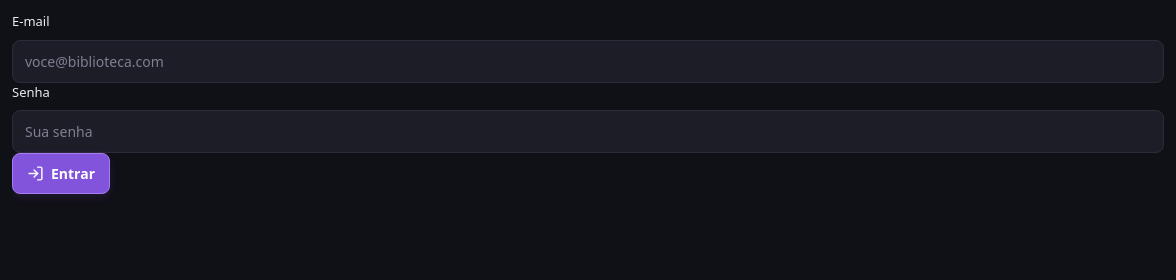
Test: CA-UI-001b presents invalid credentials without authenticating
The image size is (1176, 280).
Type "reader@example.test" into the field labelled "E-mail" at (588, 61), box [12,40,1164,82]
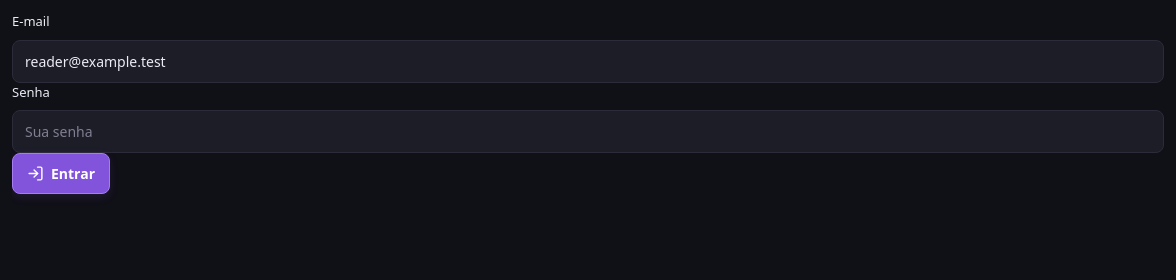
Type "test-password" into the password field labelled "Senha" at (588, 132), box [12,110,1164,153]
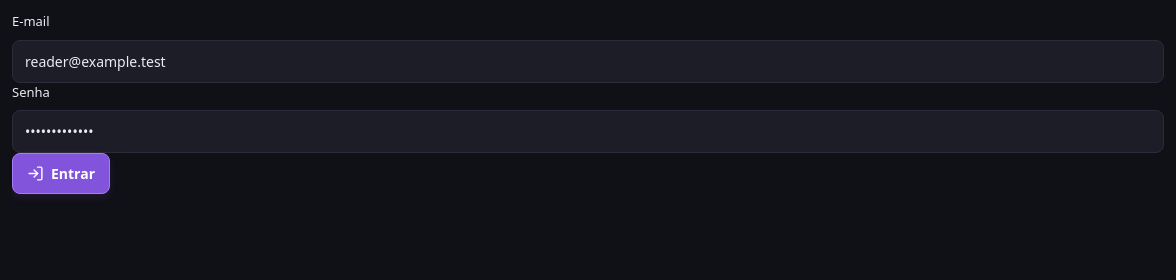
Click the button "Entrar" at (61, 174), box [12,153,110,194]
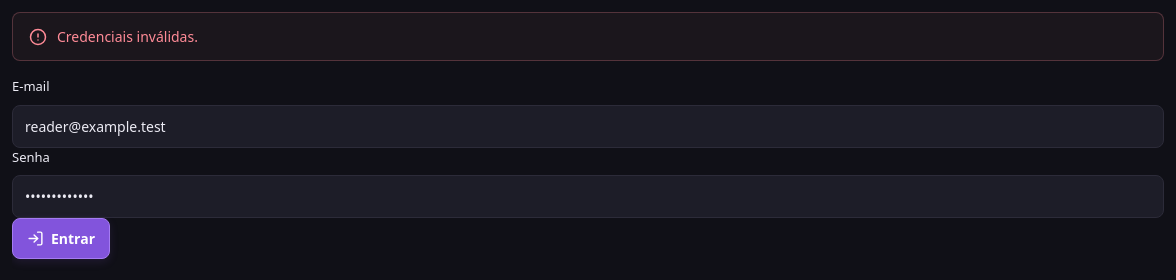
Expected: the message reads "Credenciais inválidas.", [57,27,198,46]
